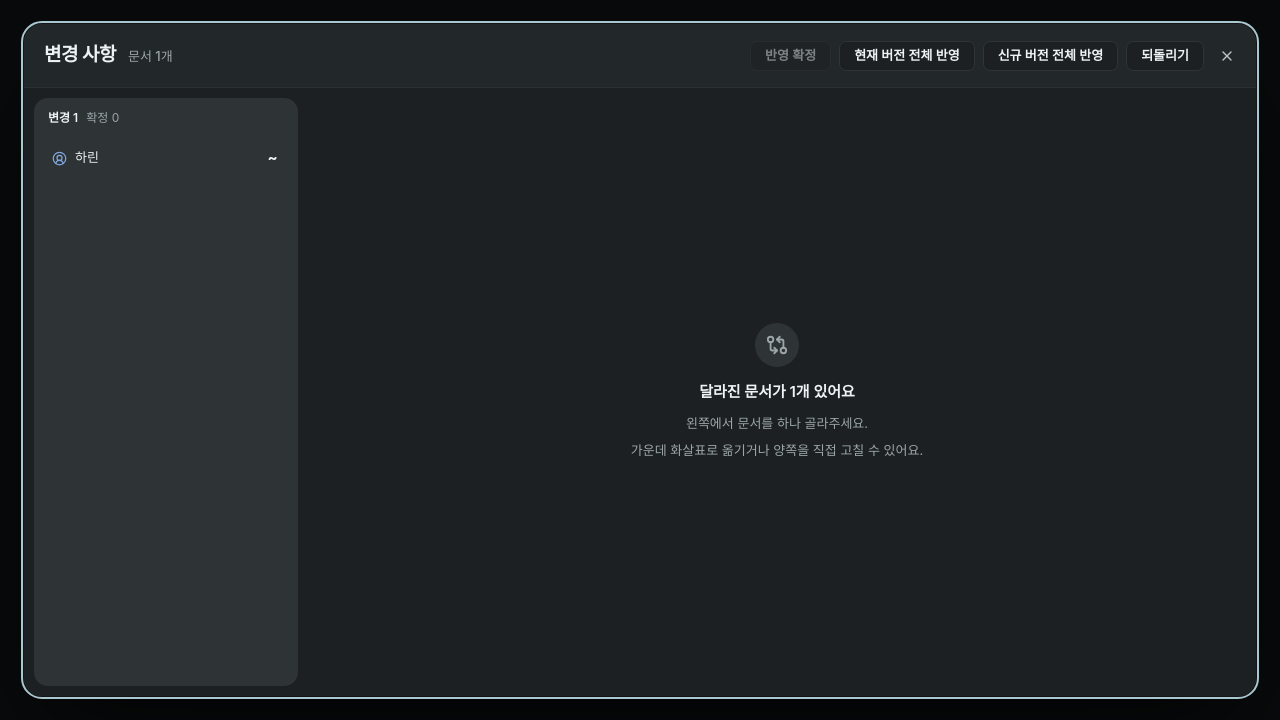
Test: GraphDiffModal › resolves a document by editing either side in place
Click the button "하린 ~" at (166, 158), box [42, 138, 290, 178]
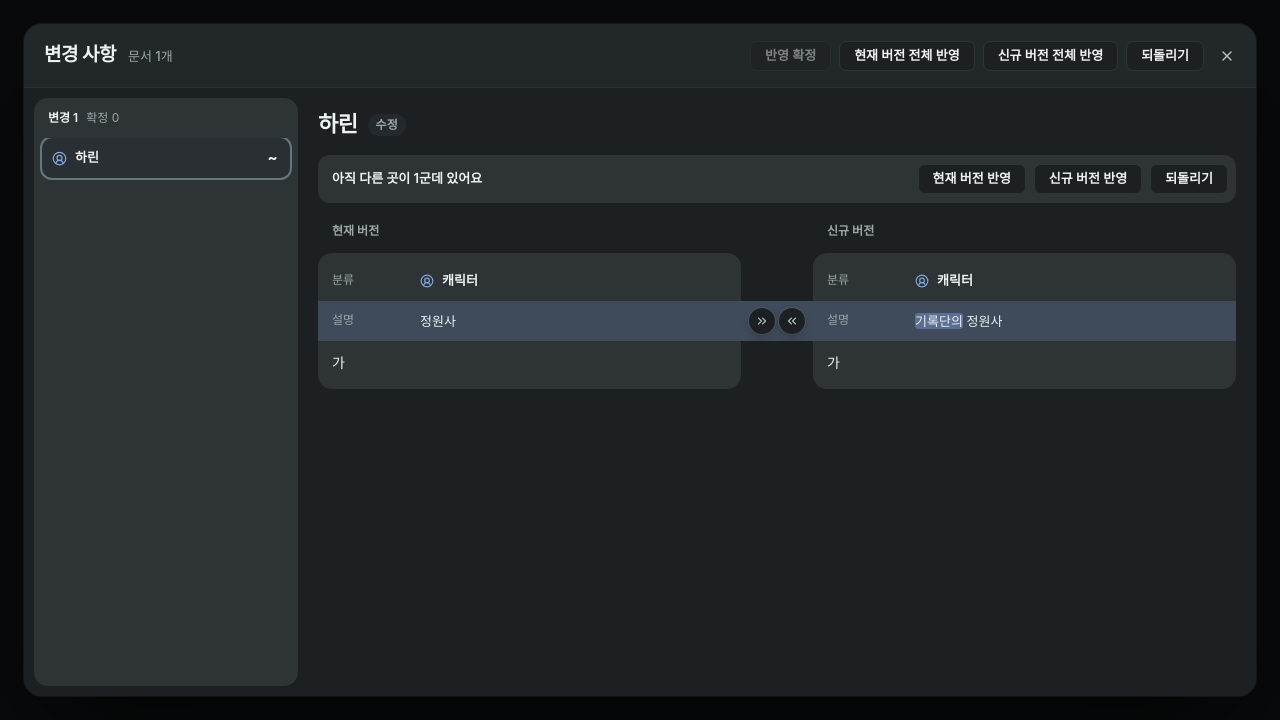
Now the message shows "1군데", box [332, 170, 482, 186]
Replace the text in the text box named "신규 버전 설명" with "정원사" at (1066, 321), box [907, 305, 1226, 337]
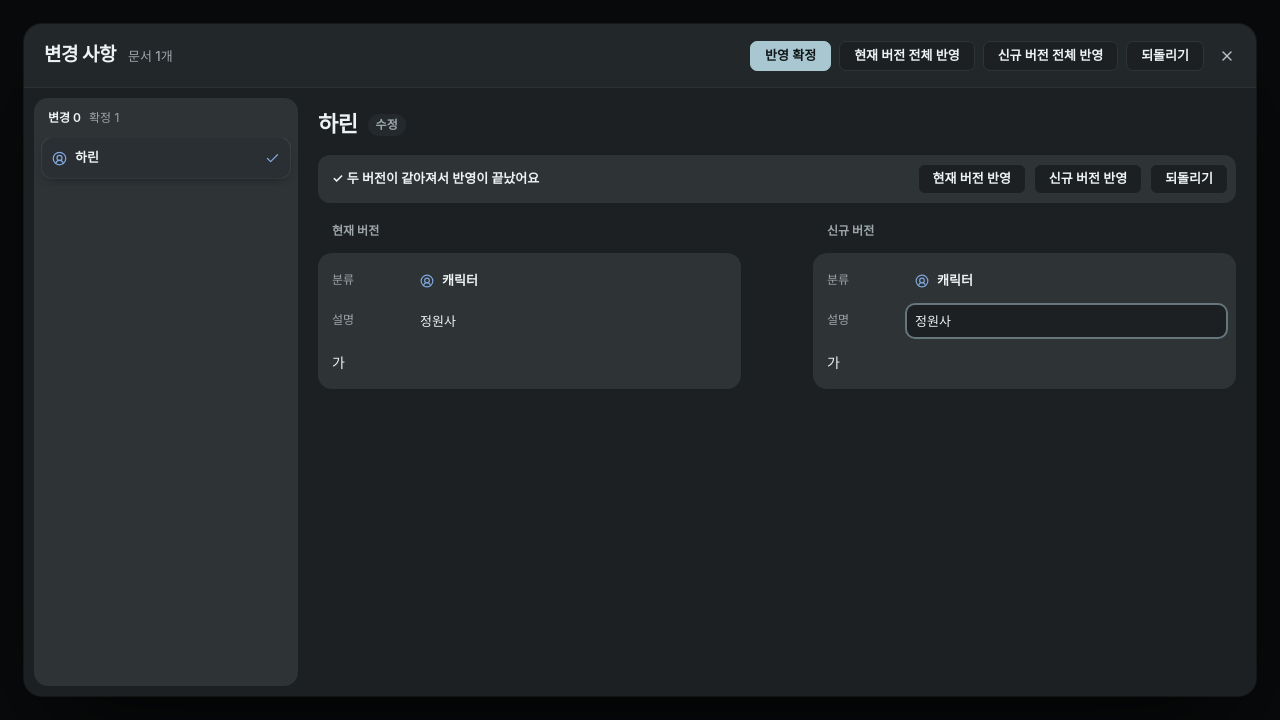
Now the message shows "두 버전이 같아져서", box [332, 170, 539, 186]
Now the button "반영 확정" is enabled, box [750, 40, 831, 70]
